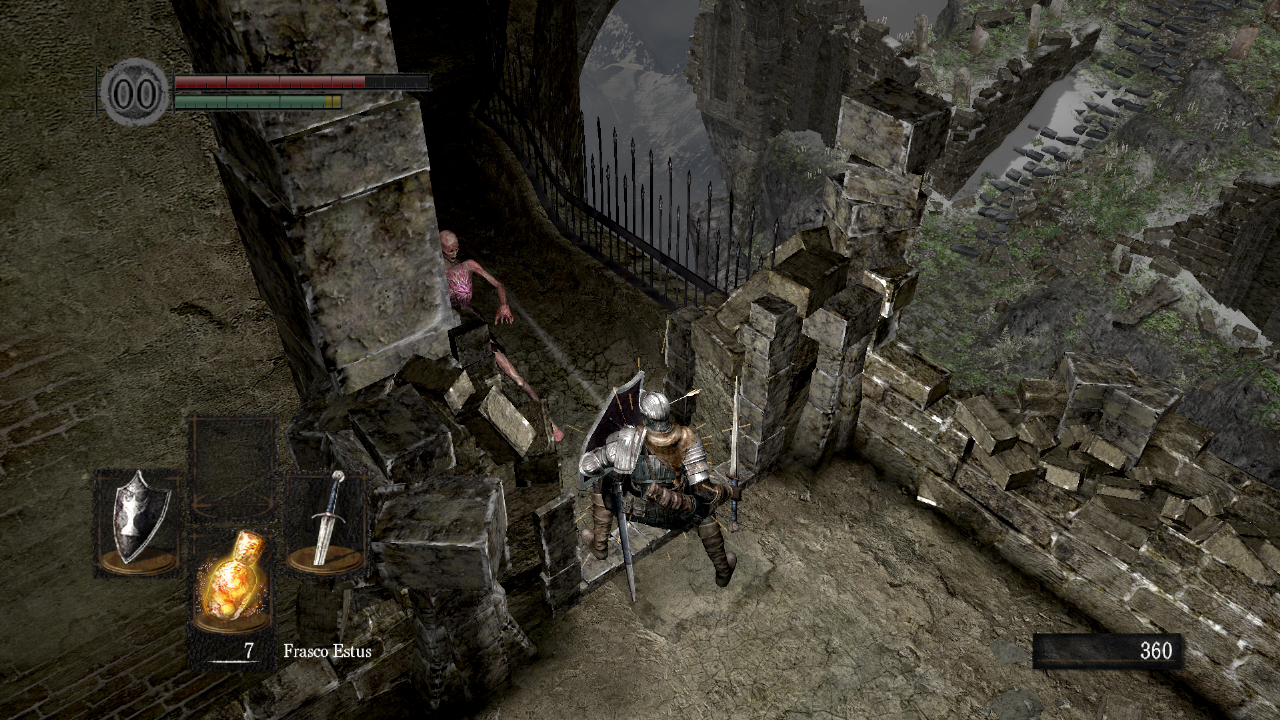hollow: (426, 229, 565, 443)
player: (578, 368, 746, 601)
